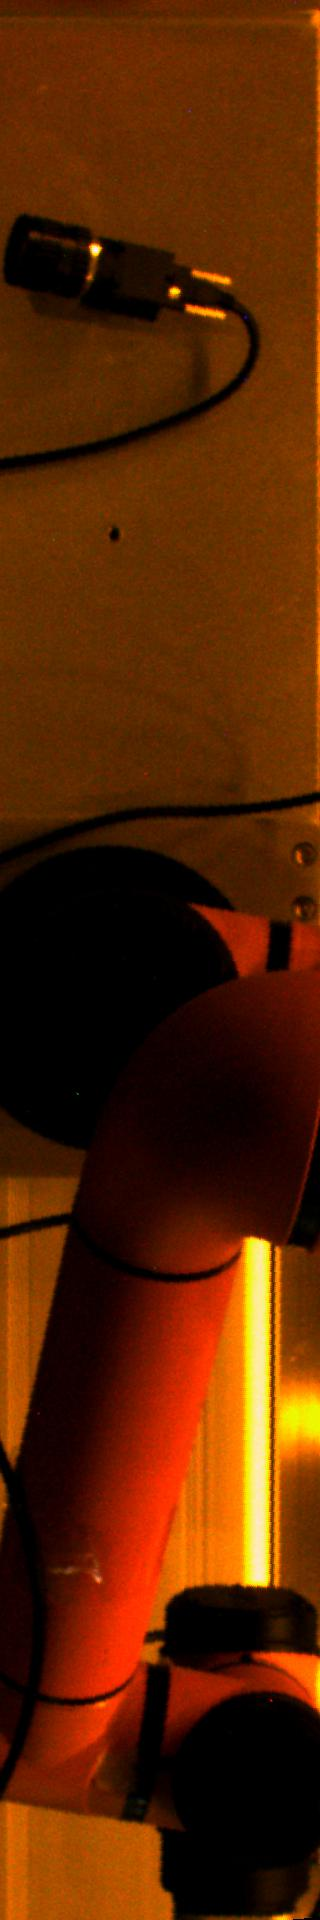keyPoint_2: (99, 520, 129, 551)
